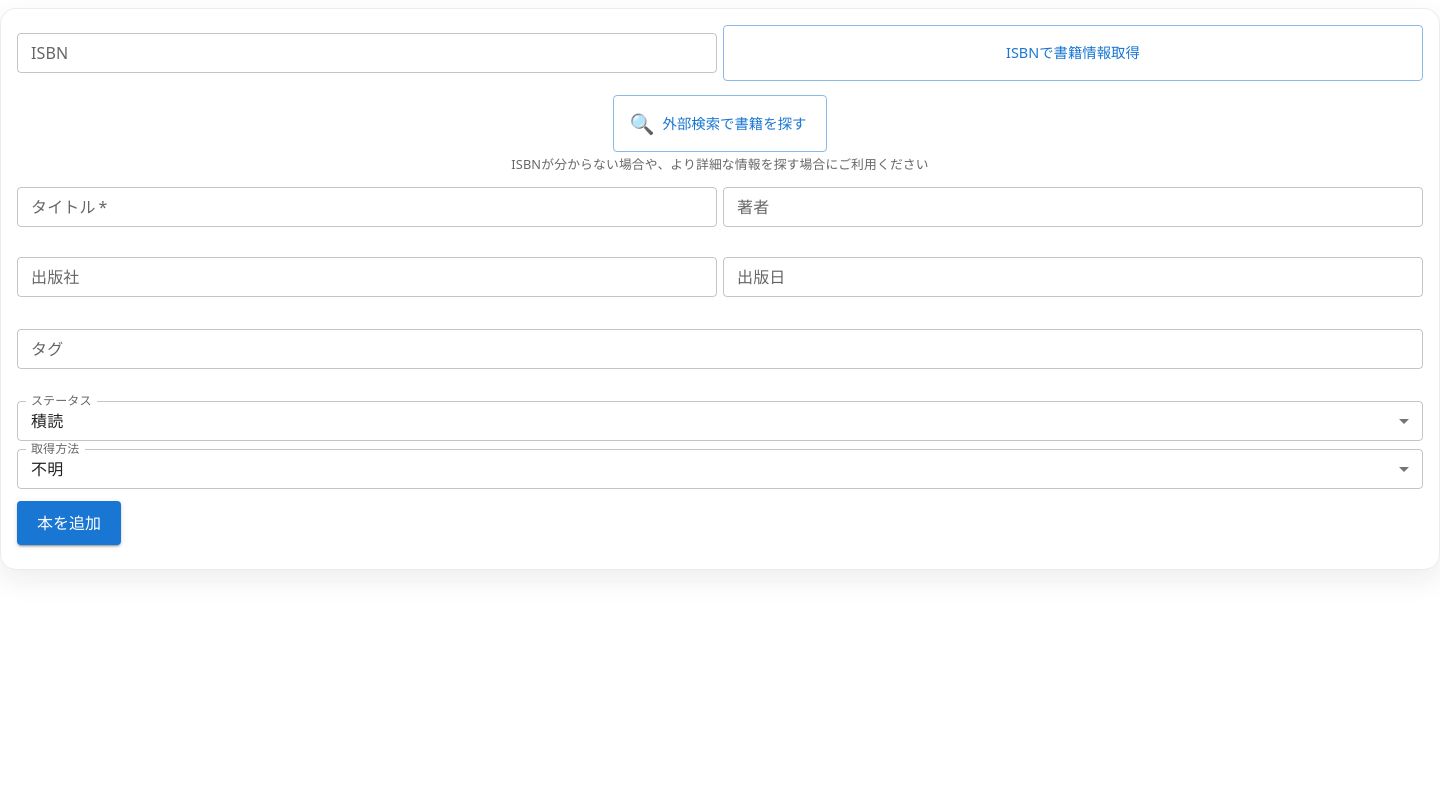
Test: BookForm › switches to external search mode when button is clicked
Note:  タイトルを入力
In the field with test id "book-title-input": (367, 207) [17,187,717,227], type "テスト本"
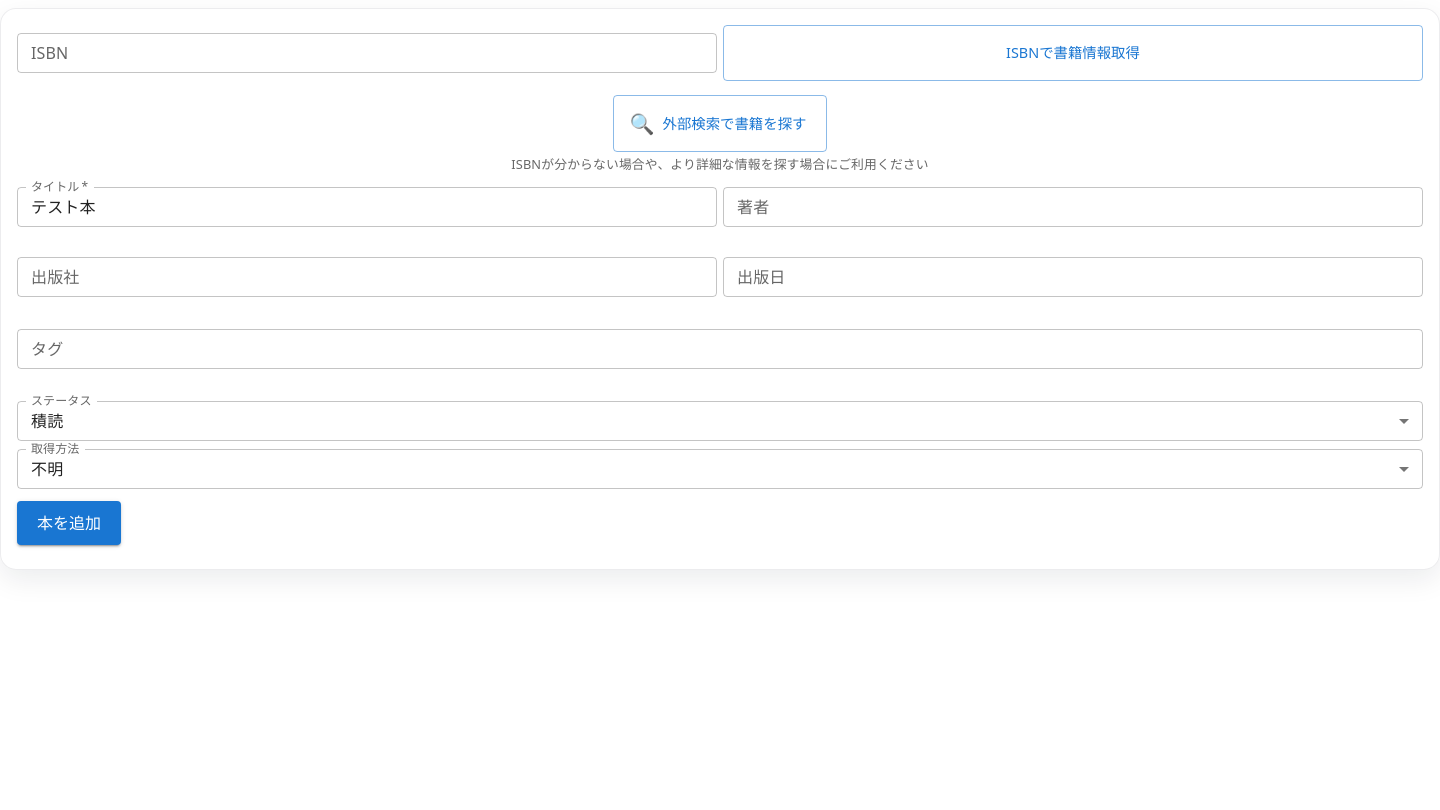
Note: 外部検索ボタンをクリック
Click the button with test id "external-search-button": click(720, 124) [613,95,828,152]
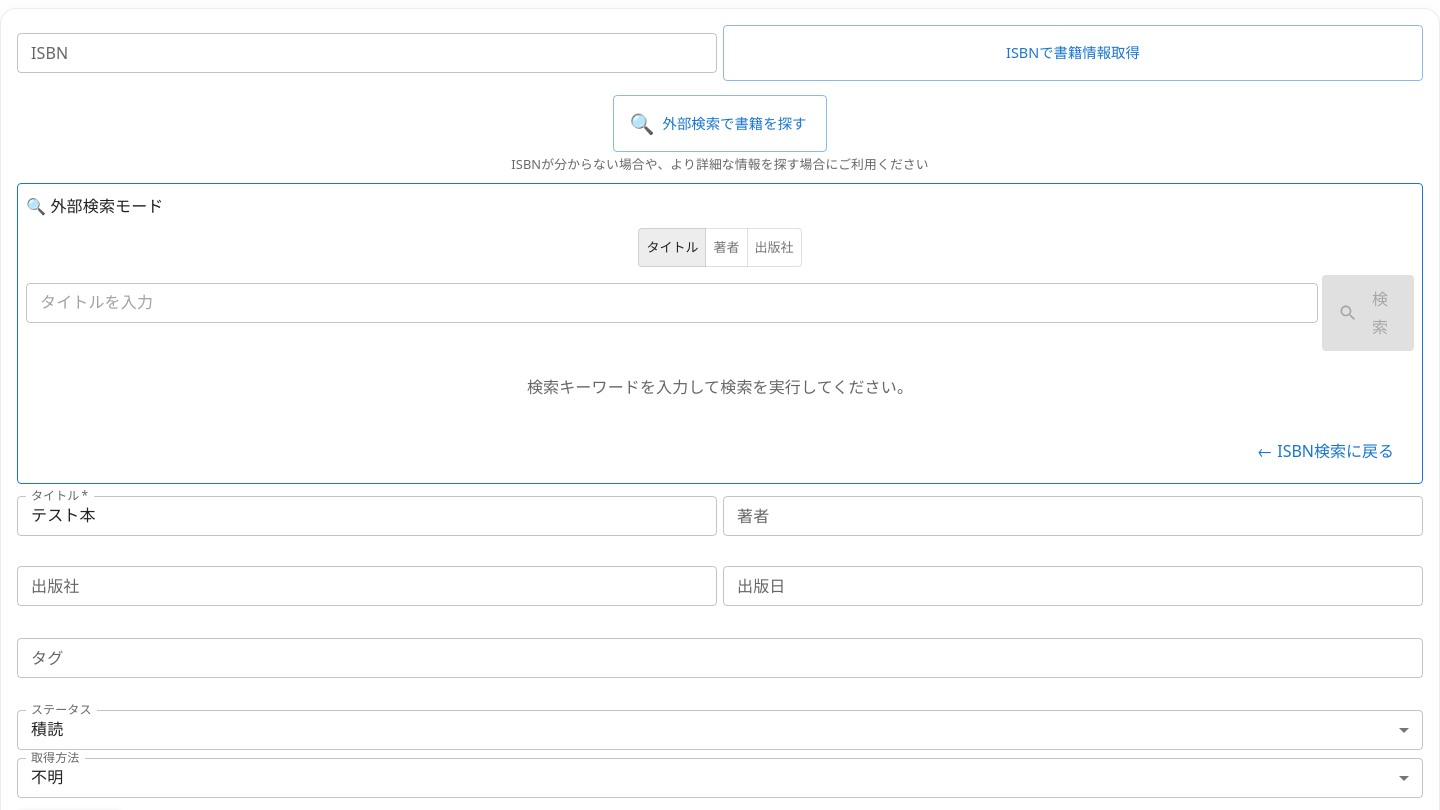
Expected: the element with test id "external-book-search" is shown, [17,183,1423,484]
